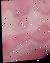plaque psoriasis: (0, 0, 50, 18), (1, 31, 29, 59), (29, 21, 50, 45), (15, 46, 46, 62), (16, 17, 28, 30), (47, 0, 50, 2)
